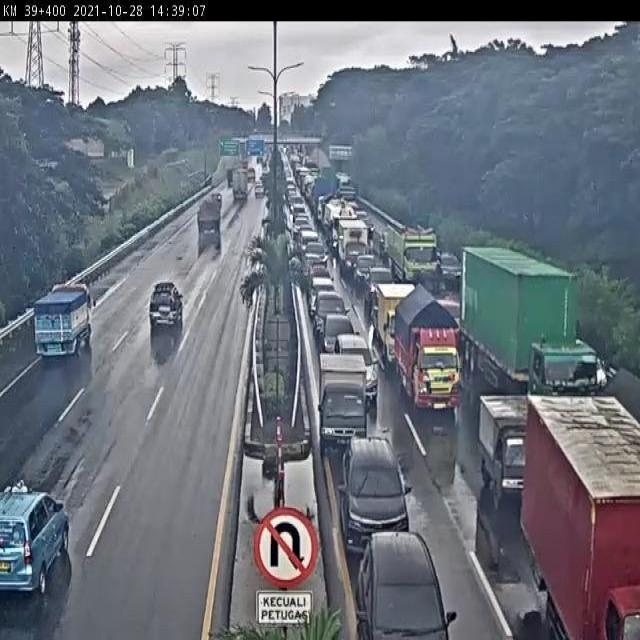big truck: (512, 369, 640, 640), (454, 242, 601, 414), (383, 211, 442, 289)
car: (351, 521, 455, 640), (0, 478, 75, 602), (338, 426, 413, 542), (333, 324, 380, 412), (144, 279, 186, 337), (313, 289, 352, 343), (363, 266, 399, 310), (305, 275, 338, 320), (324, 313, 362, 352), (354, 251, 381, 292), (303, 241, 330, 275), (307, 260, 334, 291), (298, 228, 321, 256), (292, 212, 311, 239), (252, 182, 264, 202), (207, 192, 220, 209)
small truck: (390, 283, 463, 416), (475, 380, 544, 500), (27, 277, 93, 364), (317, 349, 369, 451), (375, 279, 426, 361), (334, 212, 370, 273), (192, 200, 225, 243), (229, 168, 250, 199)
